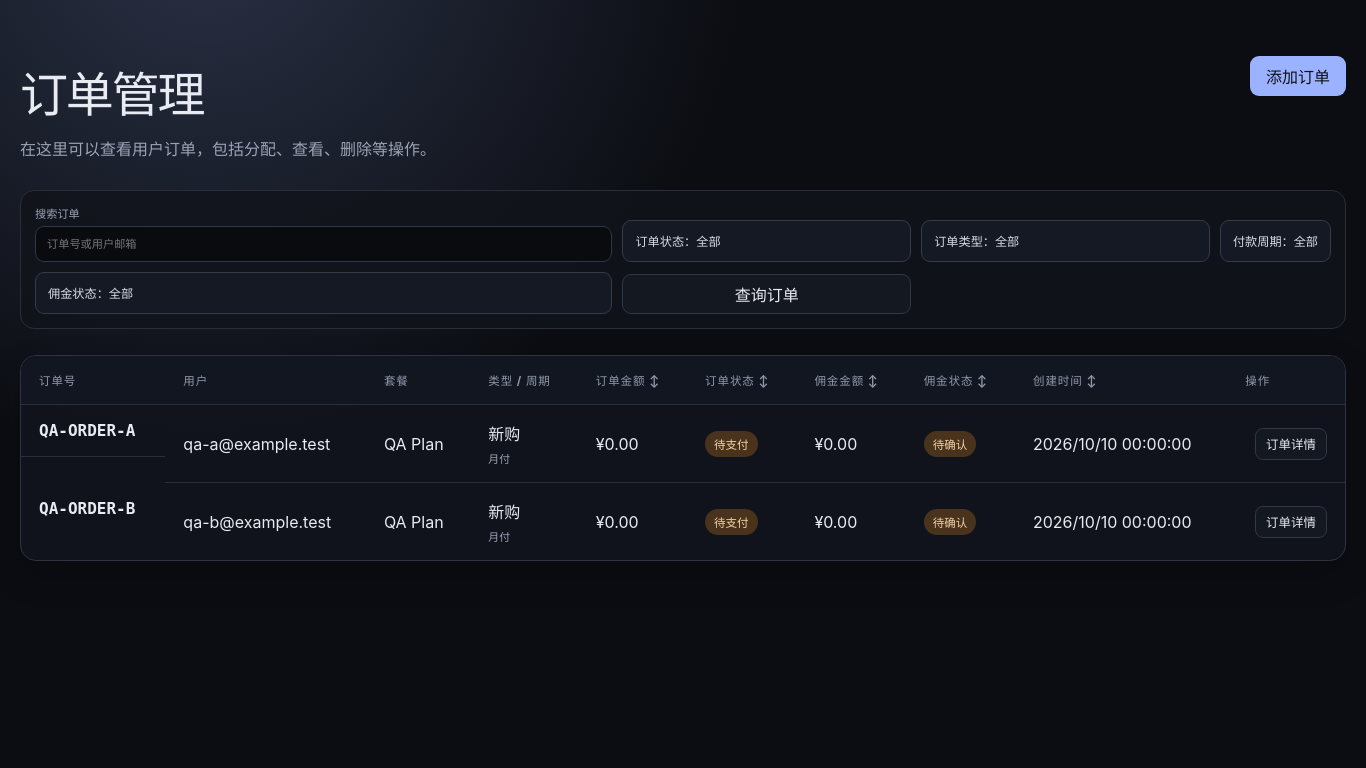
it: administrator order detail request lifetime › keeps old action responses out of the dialog but synchronizes the list (reopen=false)
The image size is (1366, 768).
Step 1. Click the button "订单详情" in the row of "QA-ORDER-A" → x=1291, y=444, box top-left (1255, 428), bottom-right (1327, 460)
(page scrolled)
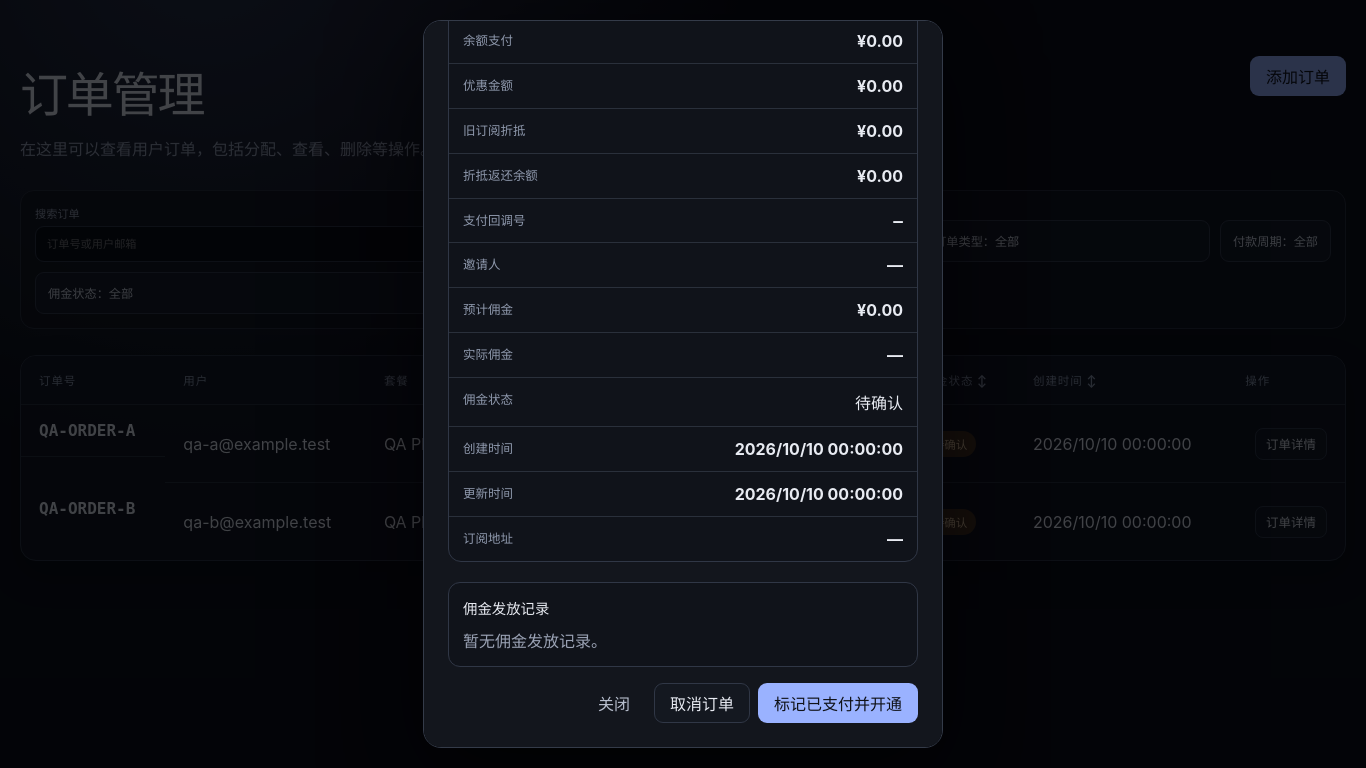
Step 2. Click the button "取消订单" → x=702, y=703, box top-left (654, 683), bottom-right (750, 723)
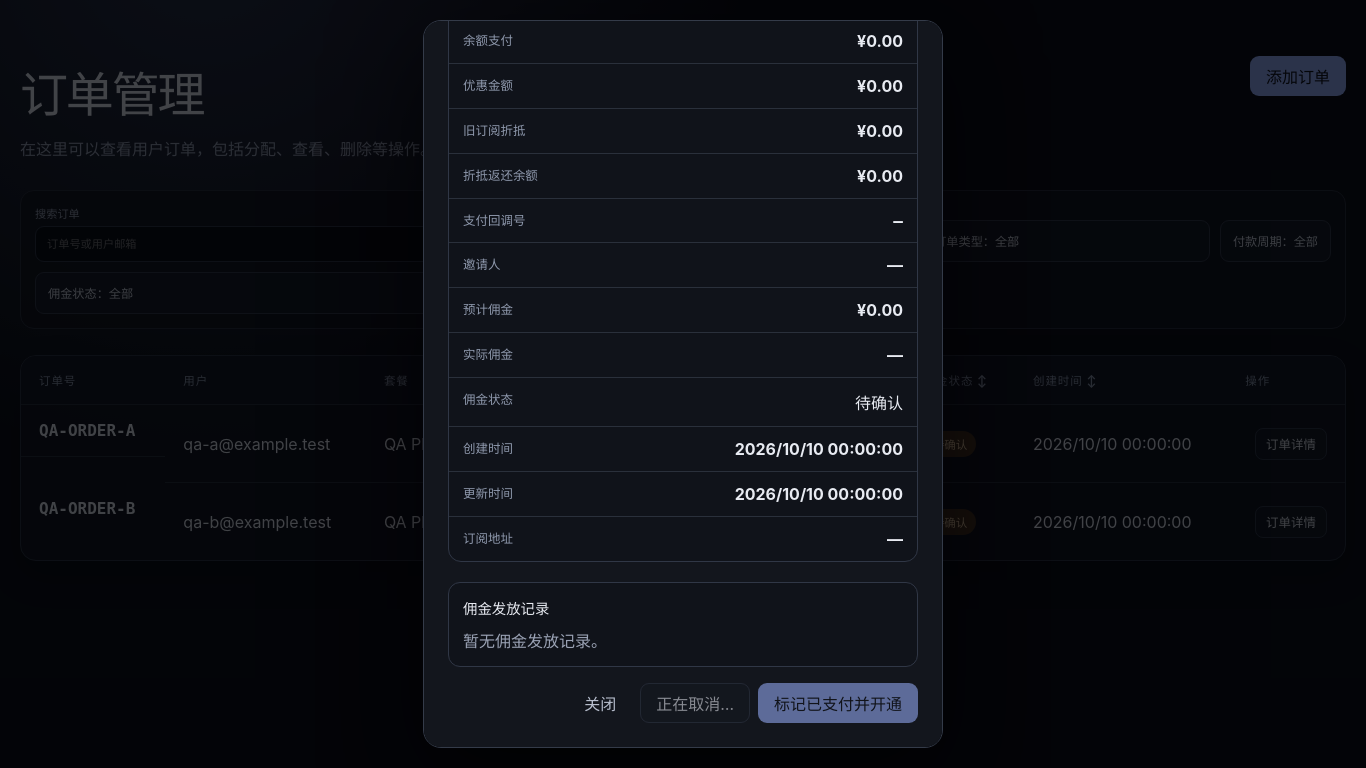
Step 3. Click the button "关闭" → x=600, y=703, box top-left (568, 683), bottom-right (632, 723)
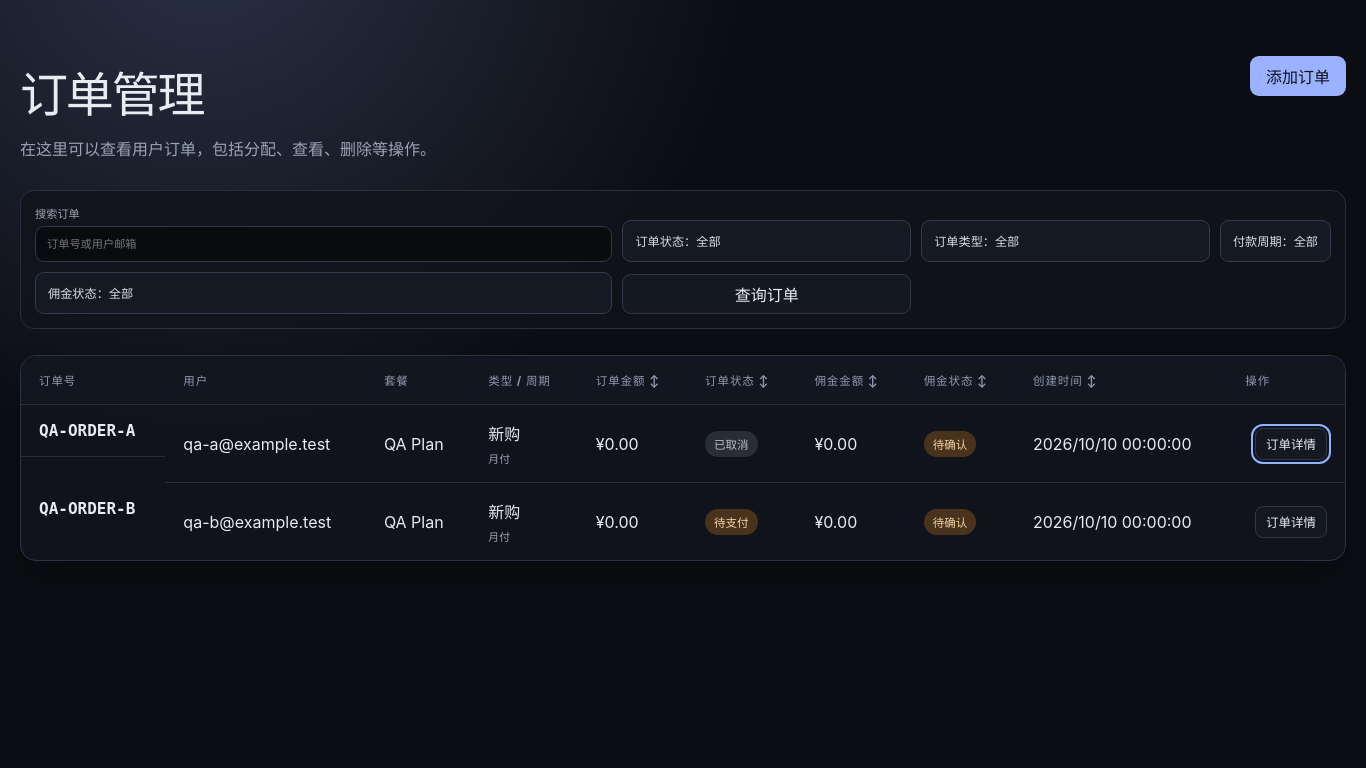
Expected: the text "已取消" is shown, top-left (705, 430), bottom-right (758, 456)
